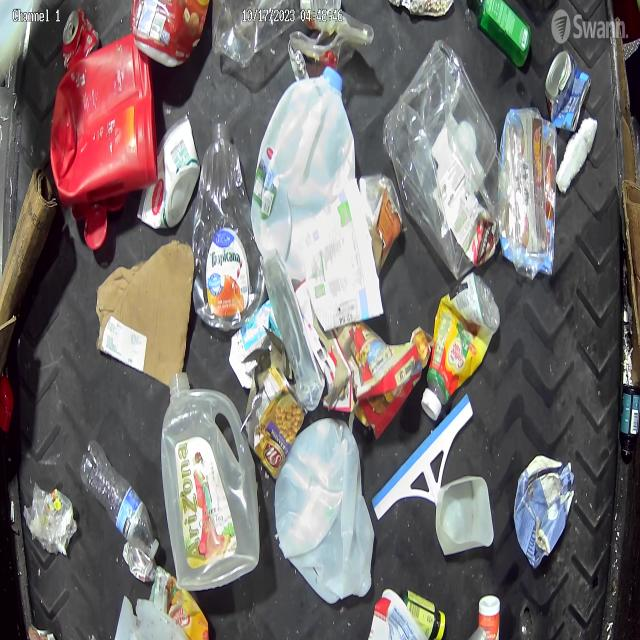can: (545, 49, 592, 133), (60, 6, 96, 68)
milk_jug: (255, 71, 355, 272), (274, 418, 372, 602)
non_white_jug: (161, 372, 260, 591), (53, 41, 153, 197)
plastic_bottle: (190, 129, 252, 332), (83, 442, 161, 567)
